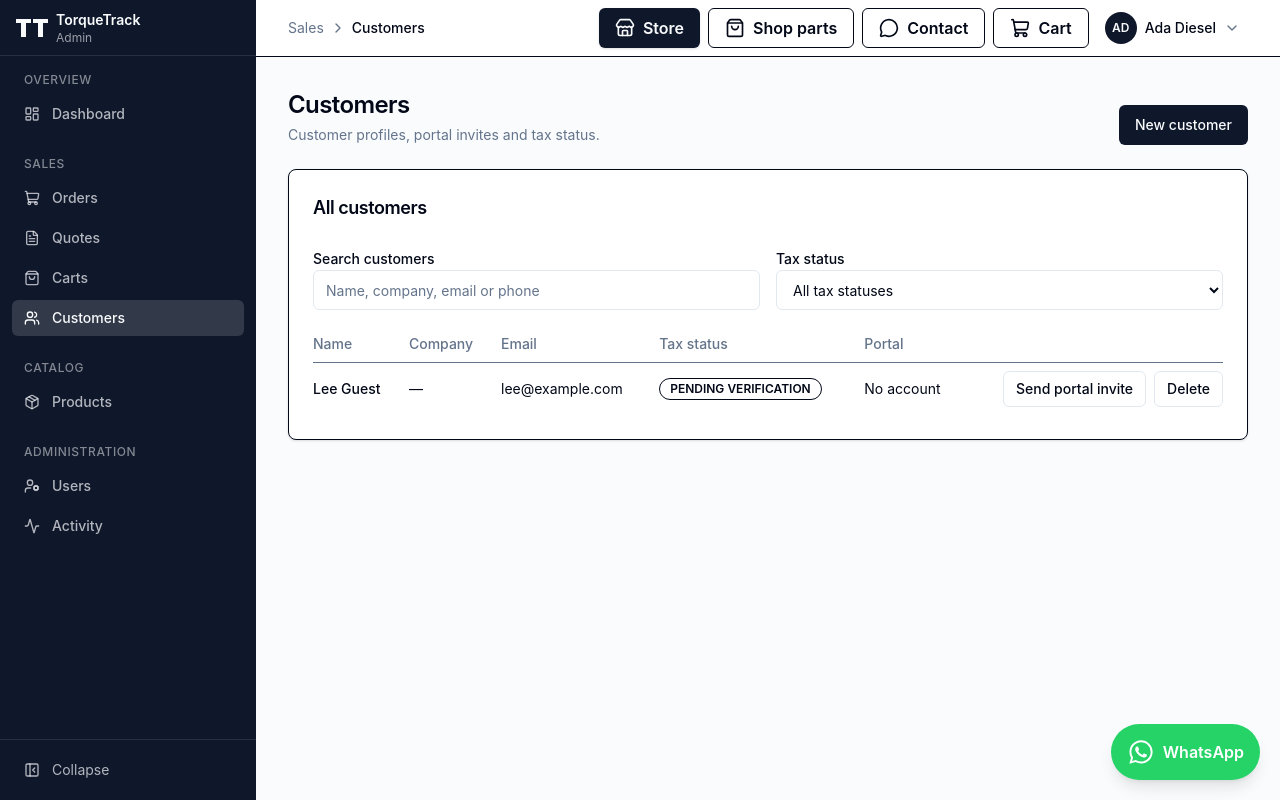
Scenario: CustomersPage › shows the invite error
The image size is (1280, 800).
Check: the text "lee@example.com" is shown, box [501, 362, 659, 415]
Click the button "Send portal invite": [1074, 389] box [1003, 371, 1146, 407]
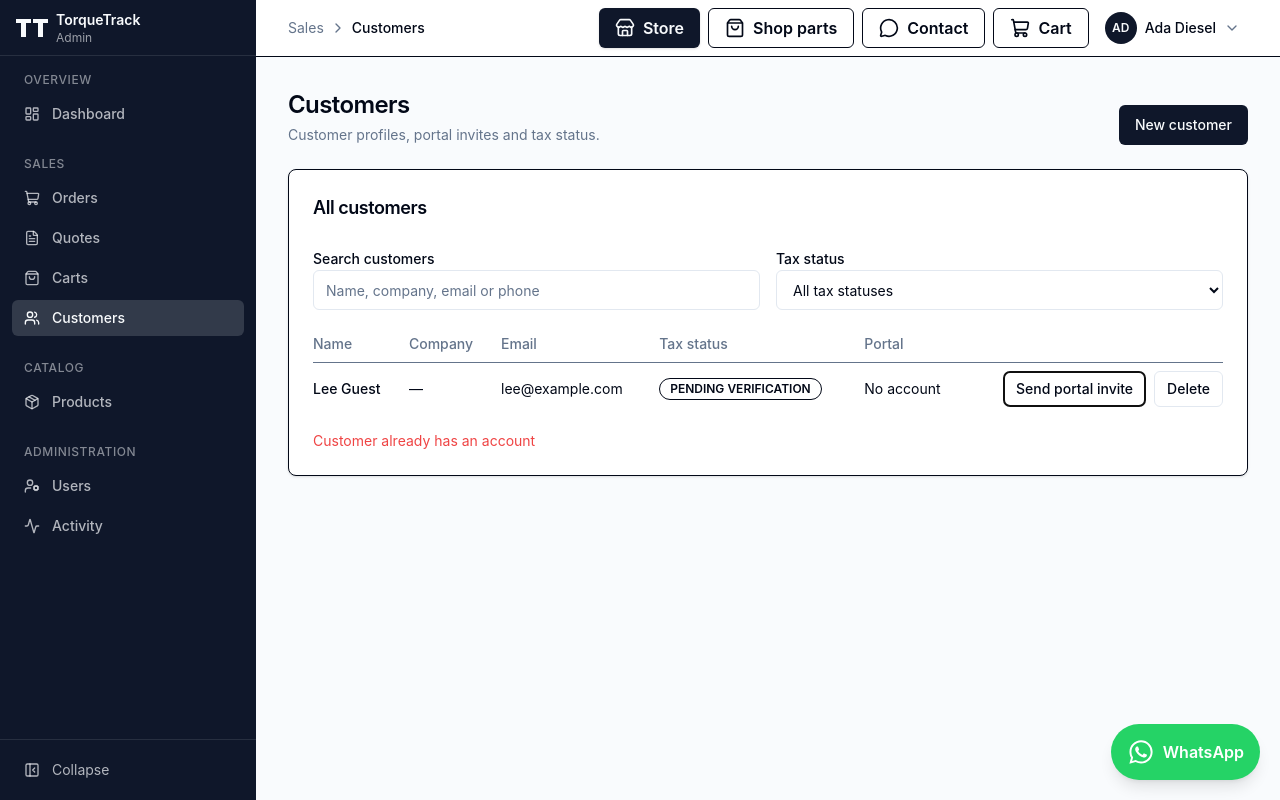
Check: the text "Customer already has an account" is shown, box [313, 432, 535, 449]
